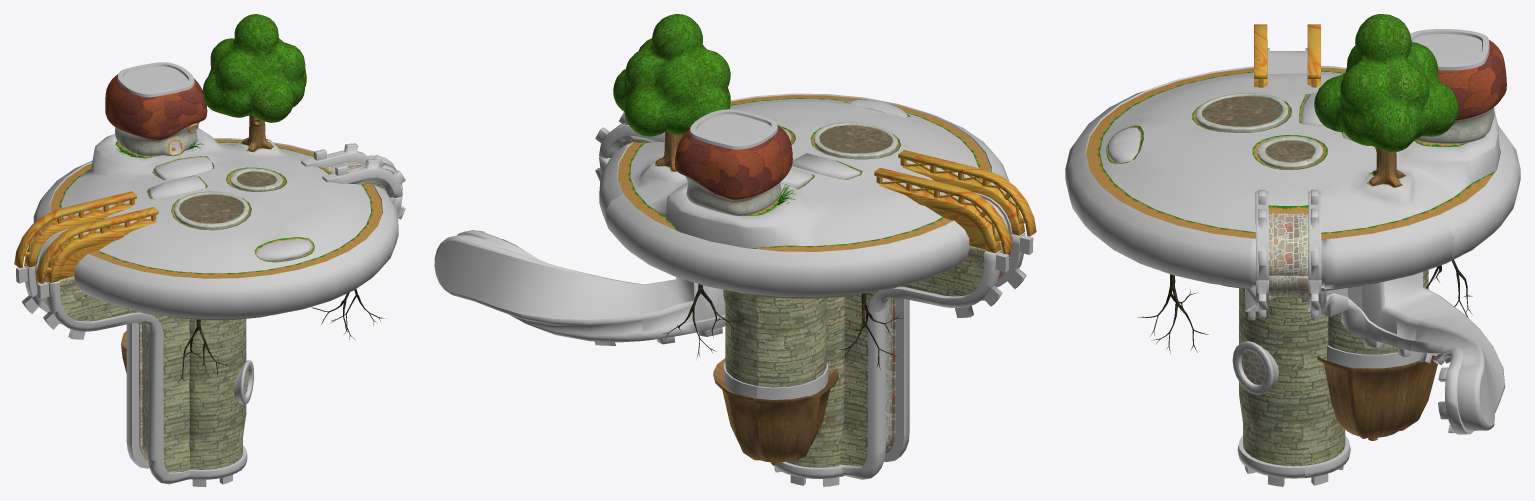
Rendered from diskgardenplanet.dae.
3 views of the same model, side by side, from view 1: azimuth 30°, elevation 25°; view 2: azimuth 150°, elevation 25°; view 3: azimuth 270°, elevation 25° (orthographic). The views are drawn at different scales.
Visible parts, largest first — view 1: n3b9, n12b1, n9b4, n0b5, n5b3, n11b0, n1b10, n2b8, n4b12, n10b11, n7b13, n8b6 (+2 smaller); view 2: n0b5, n3b9, n12b1, n9b4, n5b3, n11b0, n13b2, n4b12, n2b8, n1b10, n10b11, n8b6 (+2 smaller); view 3: n3b9, n12b1, n0b5, n9b4, n5b3, n13b2, n2b8, n1b10, n8b6, n10b11, n4b12, n7b13 (+2 smaller).
Boxes of the visible parts, x1=… form: n3b9: x1=61, y1=128, x2=370, y2=273; n12b1: x1=33, y1=62, x2=398, y2=318; n9b4: x1=59, y1=180, x2=386, y2=472; n0b5: x1=16, y1=155, x2=405, y2=486; n5b3: x1=202, y1=14, x2=306, y2=122; n11b0: x1=14, y1=123, x2=198, y2=283; n1b10: x1=123, y1=66, x2=405, y2=261; n2b8: x1=50, y1=139, x2=382, y2=278; n4b12: x1=105, y1=74, x2=207, y2=139; n10b11: x1=115, y1=122, x2=283, y2=229; n7b13: x1=179, y1=171, x2=275, y2=223; n8b6: x1=35, y1=162, x2=364, y2=460; n0b5: x1=434, y1=157, x2=1033, y2=486; n3b9: x1=630, y1=98, x2=978, y2=248; n12b1: x1=599, y1=93, x2=1012, y2=297; n9b4: x1=618, y1=139, x2=985, y2=467; n5b3: x1=613, y1=14, x2=730, y2=136; n11b0: x1=874, y1=150, x2=1036, y2=253; n13b2: x1=655, y1=132, x2=838, y2=465; n4b12: x1=674, y1=125, x2=792, y2=199; n2b8: x1=618, y1=95, x2=990, y2=251; n1b10: x1=595, y1=99, x2=907, y2=188; n10b11: x1=685, y1=122, x2=898, y2=215; n8b6: x1=885, y1=234, x2=1012, y2=452; n3b9: x1=1099, y1=71, x2=1499, y2=232; n12b1: x1=1065, y1=29, x2=1520, y2=289; n0b5: x1=1232, y1=240, x2=1505, y2=486; n9b4: x1=1239, y1=270, x2=1428, y2=466; n5b3: x1=1314, y1=14, x2=1458, y2=151; n13b2: x1=1317, y1=148, x2=1437, y2=440; n2b8: x1=1086, y1=67, x2=1495, y2=239; n1b10: x1=1107, y1=34, x2=1481, y2=280; n8b6: x1=1241, y1=213, x2=1308, y2=385; n10b11: x1=1195, y1=93, x2=1494, y2=168; n4b12: x1=1437, y1=40, x2=1506, y2=120; n7b13: x1=1202, y1=96, x2=1314, y2=162.
Bounding box in the file's own units: 6331 × 5516 × 4504.
